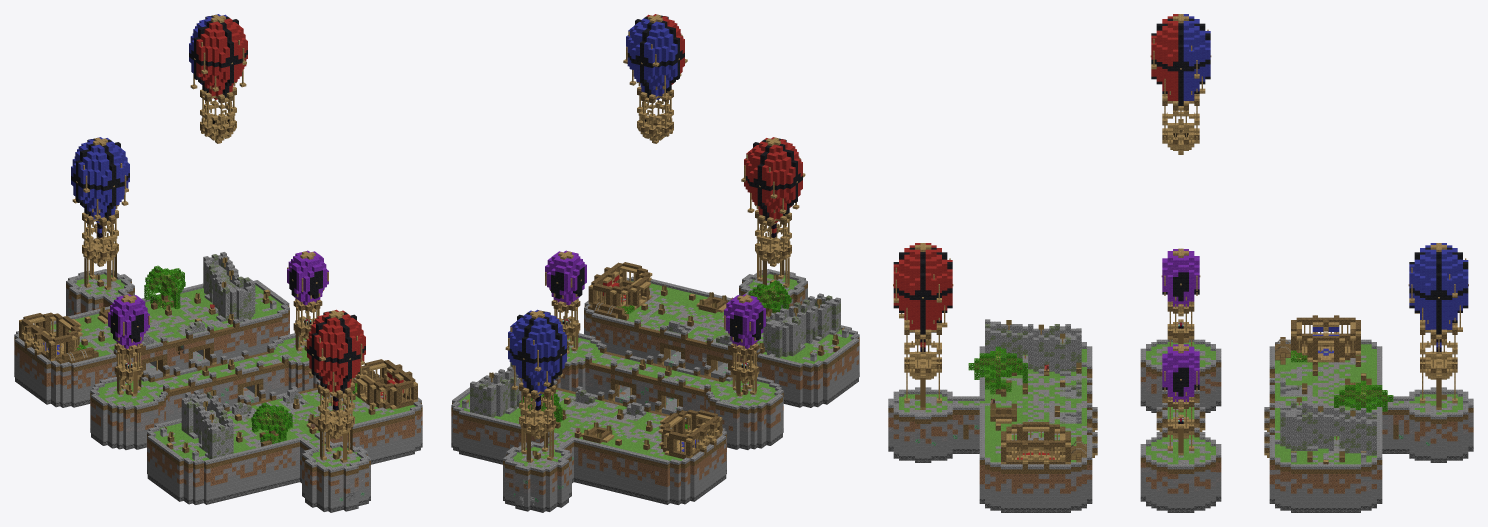
The model's file is minecraft.obj.
The picture shows the model from 3 angles, left to right: view 1: azimuth 30°, elevation 25°; view 2: azimuth 150°, elevation 25°; view 3: azimuth 270°, elevation 25°; orthographic projection. The views are drawn at different scales.
Size of the model in its own units: 57 by 88.5 by 109.
